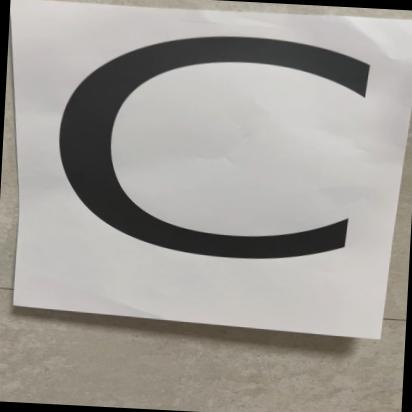seat: (26, 6, 390, 327)
